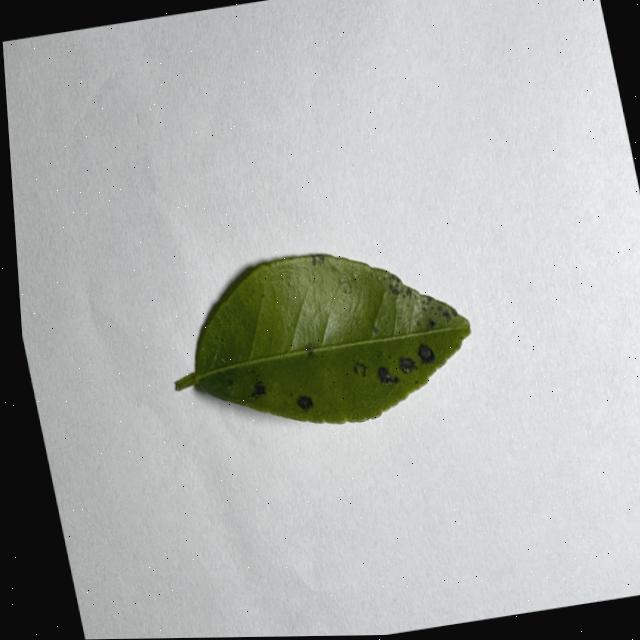sooty_mold: (180, 255, 470, 424)
